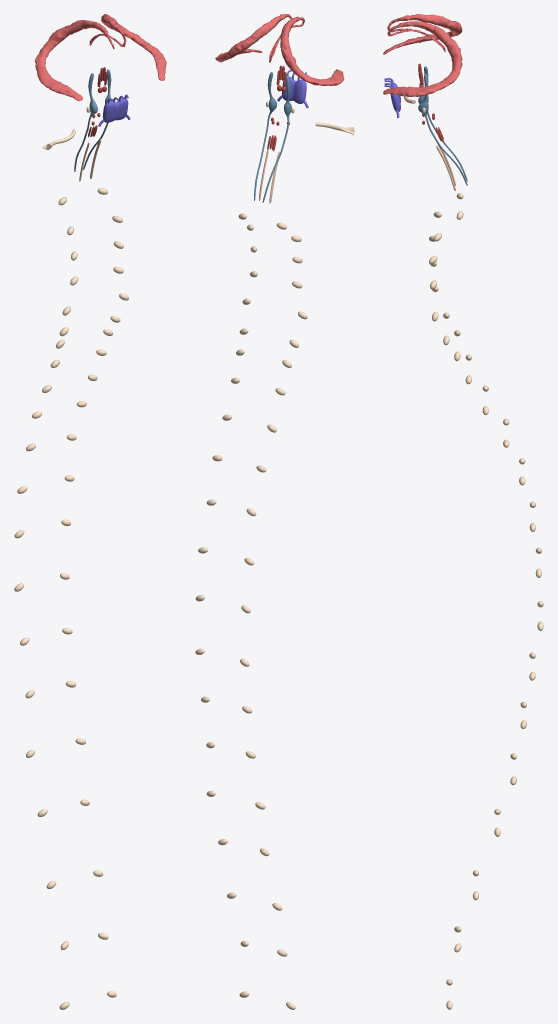
Rendered from nerve.glb.
The picture shows the model from 3 angles, left to right: view 1: azimuth 30°, elevation 25°; view 2: azimuth 150°, elevation 25°; view 3: azimuth 270°, elevation 25°; orthographic projection. The views are drawn at different scales.
Parts seen in each view (by area): view 1: ne0005, ne0026, ne0025, ne0004, ne0003; view 2: ne0026, ne0005, ne0025, ne0004, ne0003, ne0024, ne0023; view 3: ne0004, ne0025, ne0005, ne0026.
Part boxes in pixels (bbox=[...]): ne0005: bbox=[34, 20, 114, 101]; ne0026: bbox=[14, 197, 78, 1009]; ne0025: bbox=[60, 188, 128, 997]; ne0004: bbox=[90, 14, 166, 80]; ne0003: bbox=[98, 94, 130, 126]; ne0026: bbox=[240, 222, 307, 1009]; ne0005: bbox=[270, 16, 344, 85]; ne0025: bbox=[195, 213, 257, 997]; ne0004: bbox=[215, 14, 291, 62]; ne0003: bbox=[277, 70, 308, 108]; ne0024: bbox=[262, 75, 291, 202]; ne0023: bbox=[254, 72, 276, 200]; ne0004: bbox=[383, 21, 462, 96]; ne0025: bbox=[429, 211, 543, 1009]; ne0005: bbox=[383, 14, 462, 54]; ne0026: bbox=[429, 193, 543, 985].
Size of the model in its own units: 0.0768 by 0.5738 by 0.0853.
